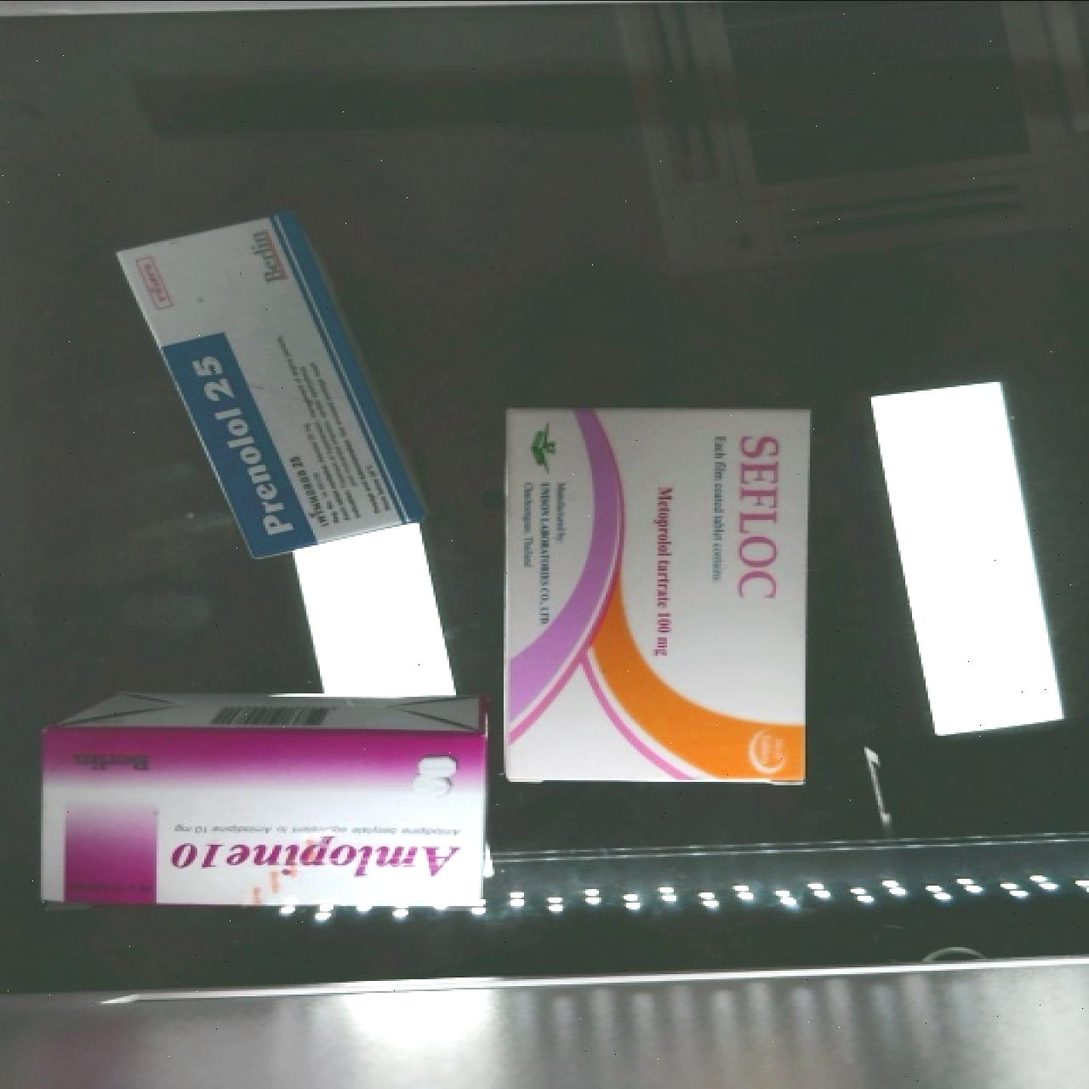medicine_label_obb: (157, 323, 322, 570), (158, 830, 461, 900), (723, 412, 807, 605)
